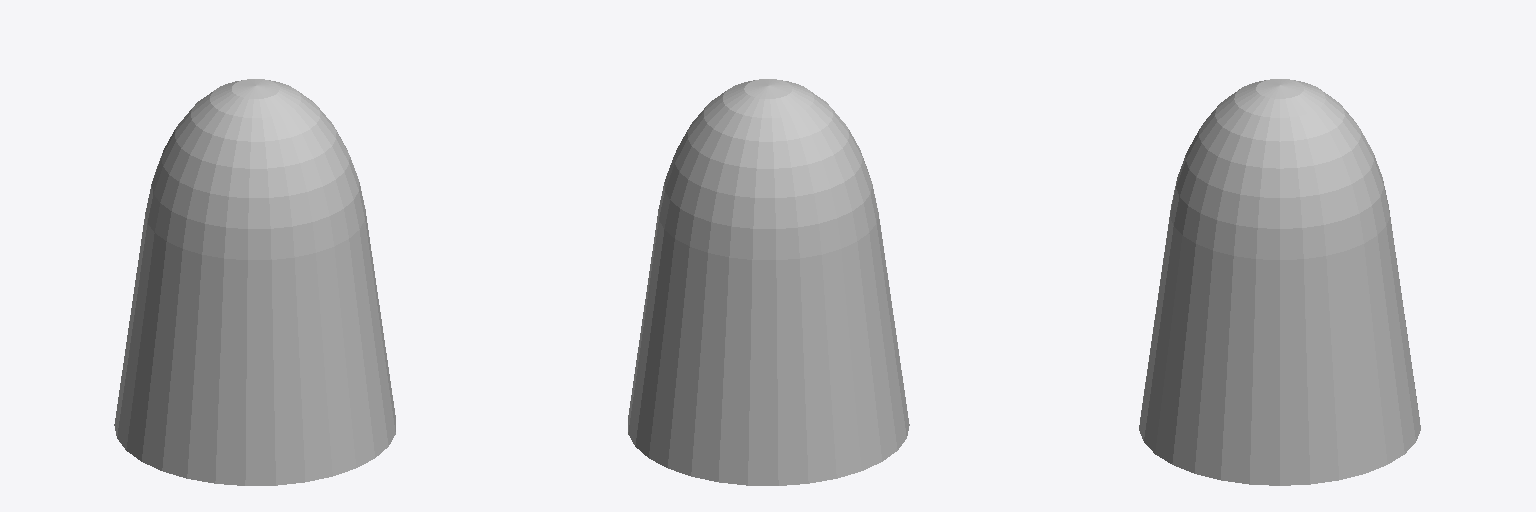
The model's file is Returncapsule.obj.
3 renders of one model, left to right at view 1: azimuth 30°, elevation 25°; view 2: azimuth 150°, elevation 25°; view 3: azimuth 270°, elevation 25°, orthographic.
Parts seen in each view (by area): view 1: Arc001; view 2: Arc001; view 3: Arc001.
Boxes of the visible parts, box(x1,y1,x2,y2) form: Arc001: box(114, 79, 395, 485); Arc001: box(628, 79, 909, 485); Arc001: box(1139, 79, 1420, 485).
Size of the model in its own units: 123 by 164 by 123.